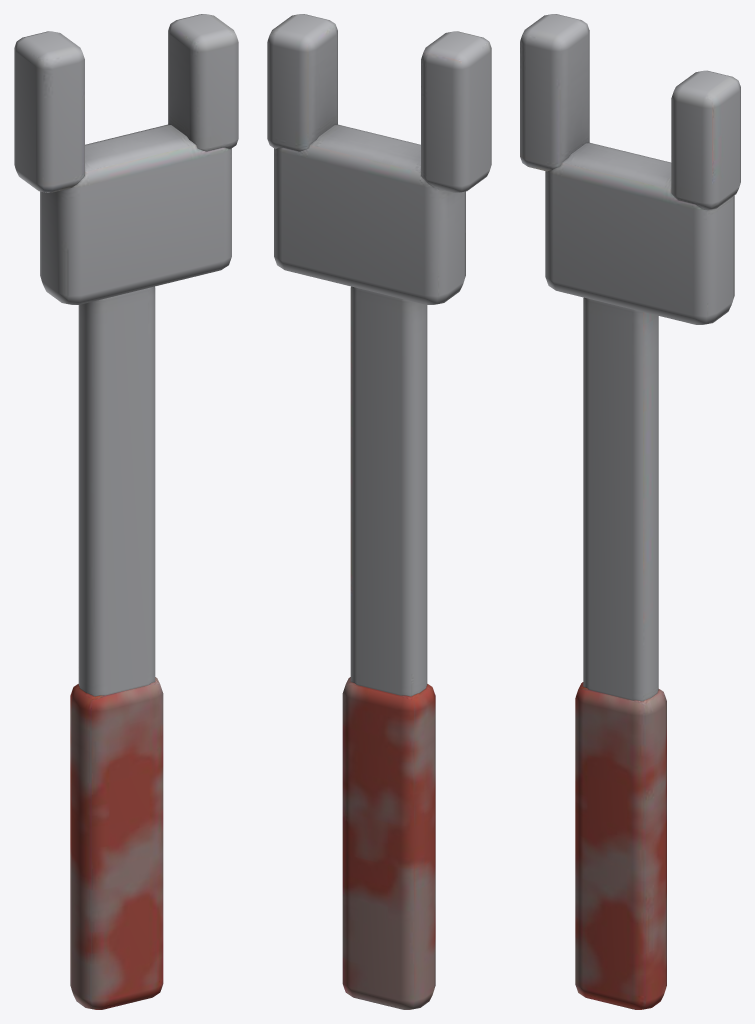
File: wrench.glb
The picture shows the model from 3 angles, left to right: view 1: azimuth 30°, elevation 25°; view 2: azimuth 150°, elevation 25°; view 3: azimuth 330°, elevation 25°; orthographic projection.
Parts seen in each view (by area): view 1: Wrench; view 2: Wrench; view 3: Wrench.
Part boxes in pixels (x1,y1,x2,y2): Wrench: [14, 14, 238, 1009]; Wrench: [267, 14, 491, 1009]; Wrench: [520, 14, 740, 1009].
Bounding box in the file's own units: 0.105 × 0.485 × 0.03.
Materials: 3 (3 with a texture image).
